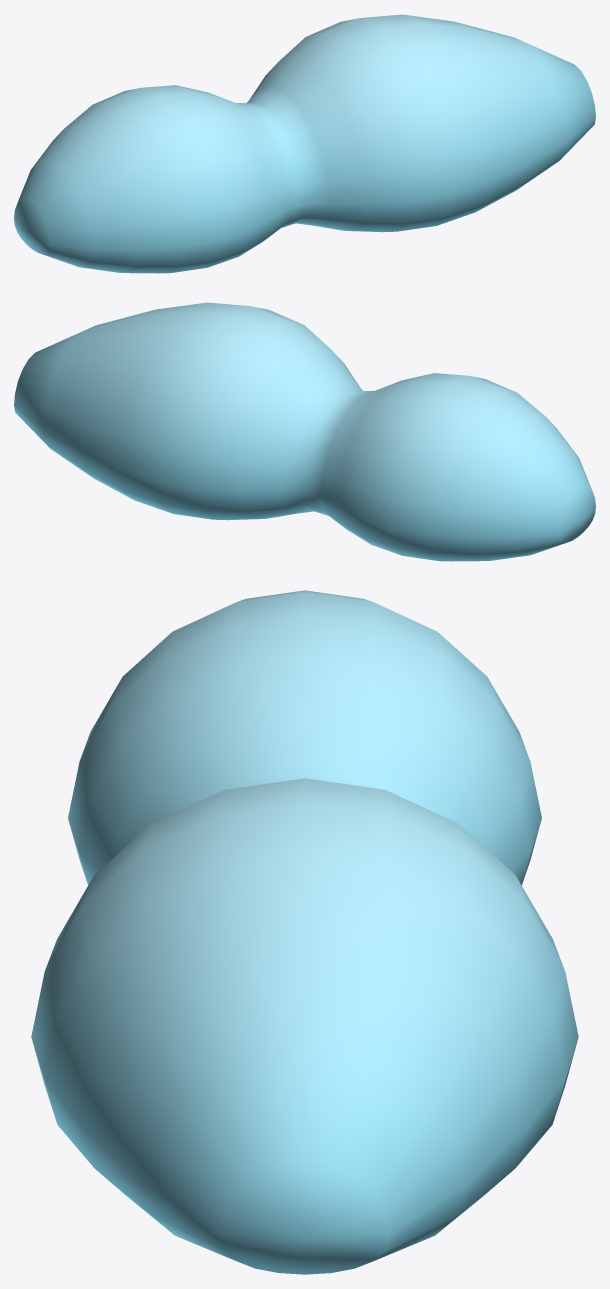
Rendered from Cloud_Medium_A.fbx.
The picture shows the model from 3 angles, top to bottom: view 1: azimuth 30°, elevation 25°; view 2: azimuth 150°, elevation 25°; view 3: azimuth 270°, elevation 25°; orthographic projection. The views are drawn at different scales.
Parts seen in each view (by area): view 1: Cloud_Medium_A; view 2: Cloud_Medium_A; view 3: Cloud_Medium_A.
Part boxes in pixels (box(x1,y1,x2,y2)): Cloud_Medium_A: box(14, 14, 595, 273); Cloud_Medium_A: box(14, 302, 595, 561); Cloud_Medium_A: box(31, 590, 578, 1274).
Bounding box in the file's own units: 1274 × 389 × 539.
